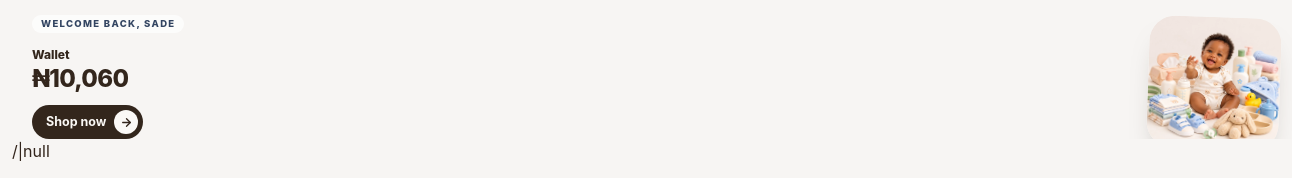
Test: the first card for the signed-in customer › opens the wallet page when the wallet is tapped
The image size is (1292, 178).
Click the button with aria-label "Open wallet, balance" at (80,71), box [32,47,128,95]
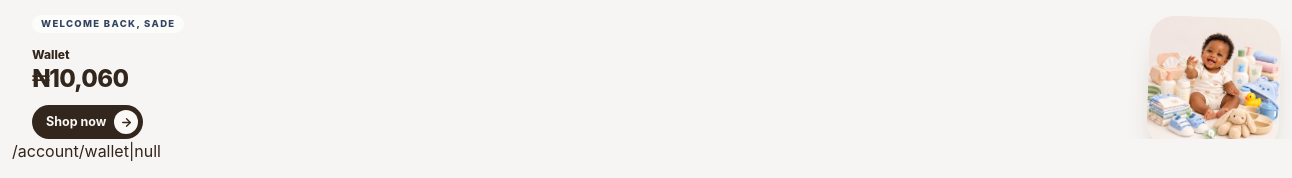
Check: the text named "where" reads "/account/wallet|null", box [12,141,161,161]
